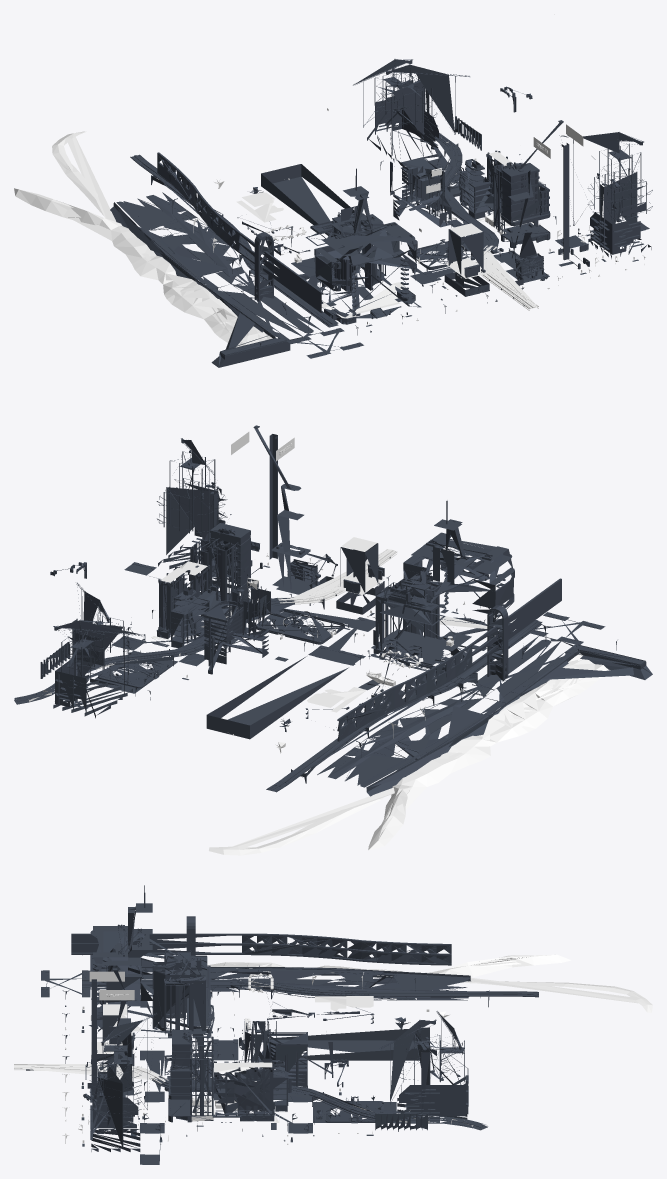
File: street_island1_02.glb
The picture shows the model from 3 angles, top to bottom: view 1: azimuth 30°, elevation 25°; view 2: azimuth 150°, elevation 25°; view 3: azimuth 270°, elevation 25°; orthographic projection. The views are drawn at different scales.
Parts seen in each view (by area): view 1: seg_696, seg_678, seg_619, seg_1161, seg_620, seg_488, seg_622, seg_1409, seg_655, seg_434, seg_1348, seg_1383 (+28 smaller); view 2: seg_696, seg_678, seg_619, seg_488, seg_620, seg_1161, seg_622, seg_434, seg_1391, seg_1409, seg_1348, seg_1361 (+24 smaller); view 3: seg_696, seg_678, seg_488, seg_1319, seg_619, seg_1161, seg_557, seg_1361, seg_1362, seg_434, seg_620, seg_489 (+30 smaller).
Boxes of the visible parts, x1,y1,x2,y2 form: seg_696: (110, 192, 323, 367); seg_678: (14, 131, 272, 347); seg_619: (559, 132, 652, 249); seg_1161: (316, 186, 416, 266); seg_620: (353, 59, 469, 155); seg_488: (261, 164, 354, 236); seg_622: (354, 59, 455, 165); seg_1409: (314, 232, 417, 316); seg_655: (501, 163, 550, 226); seg_434: (393, 157, 452, 227); seg_1348: (238, 232, 323, 313); seg_1383: (459, 159, 491, 214); seg_696: (317, 635, 652, 796); seg_678: (209, 653, 609, 855); seg_619: (156, 438, 227, 554); seg_488: (206, 656, 348, 739); seg_620: (53, 582, 143, 712); seg_1161: (405, 519, 513, 584); seg_622: (53, 590, 142, 718); seg_434: (203, 586, 270, 666); seg_1391: (190, 538, 238, 614); seg_1409: (403, 555, 514, 621); seg_1348: (471, 578, 561, 665); seg_1361: (404, 644, 472, 703); seg_696: (90, 955, 470, 1000); seg_678: (207, 954, 652, 1012); seg_488: (239, 1027, 429, 1060); seg_1319: (212, 1061, 274, 1117); seg_619: (89, 1013, 156, 1147); seg_1161: (90, 903, 152, 979); seg_557: (152, 956, 205, 1034); seg_1361: (242, 933, 347, 959); seg_1362: (346, 938, 451, 965); seg_434: (241, 1021, 307, 1088); seg_620: (381, 1011, 468, 1116); seg_489: (399, 1076, 465, 1116).
Size of the model in its own units: 437 by 195 by 517.
